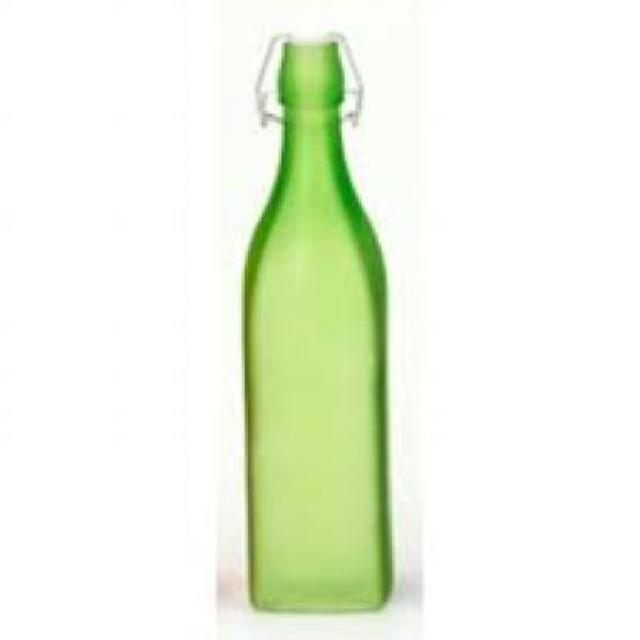GLASS: (239, 37, 390, 612)
